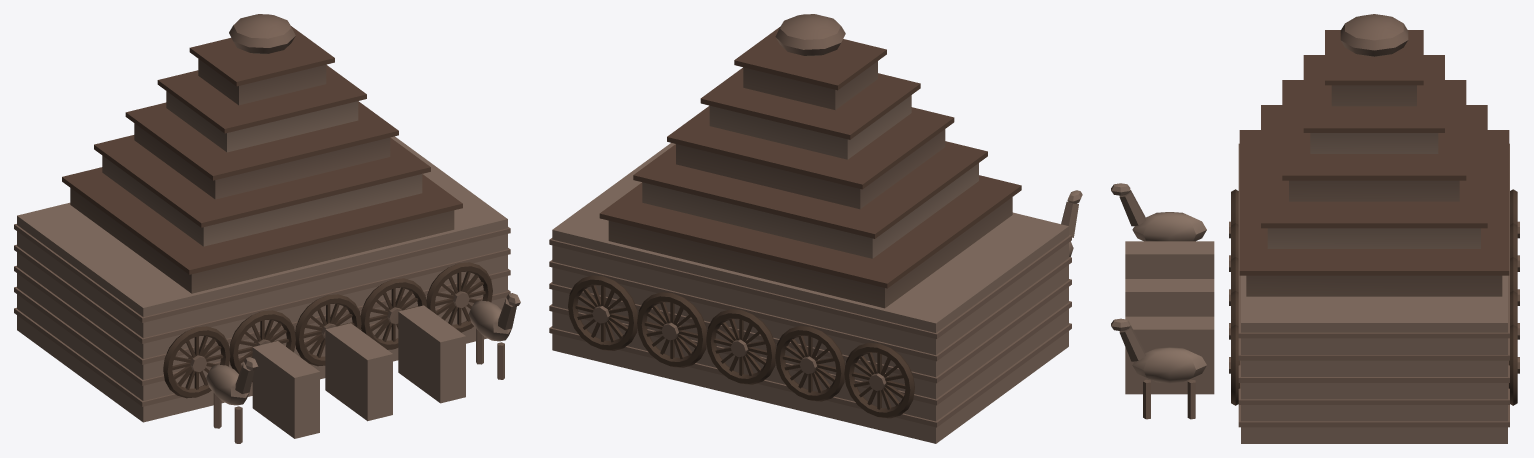
The model's file is lm-konark.glb.
3 views of the same model, side by side, from view 1: azimuth 30°, elevation 25°; view 2: azimuth 150°, elevation 25°; view 3: azimuth 270°, elevation 25° (orthographic). The views are drawn at different scales.
Size of the model in its own units: 10.1 by 8.2 by 9.19.
